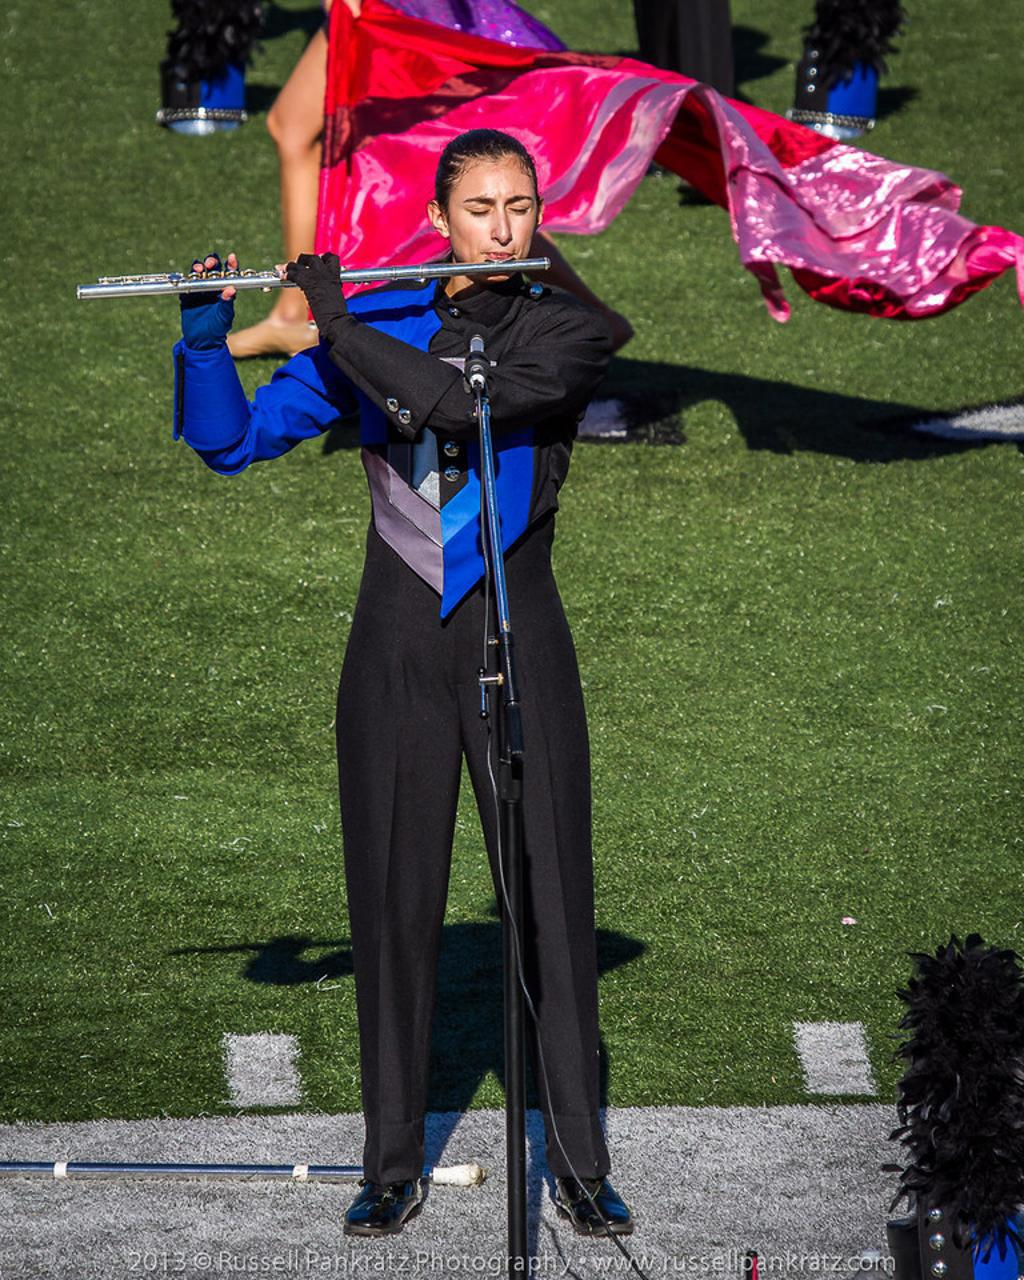face: (456, 151, 541, 283)
